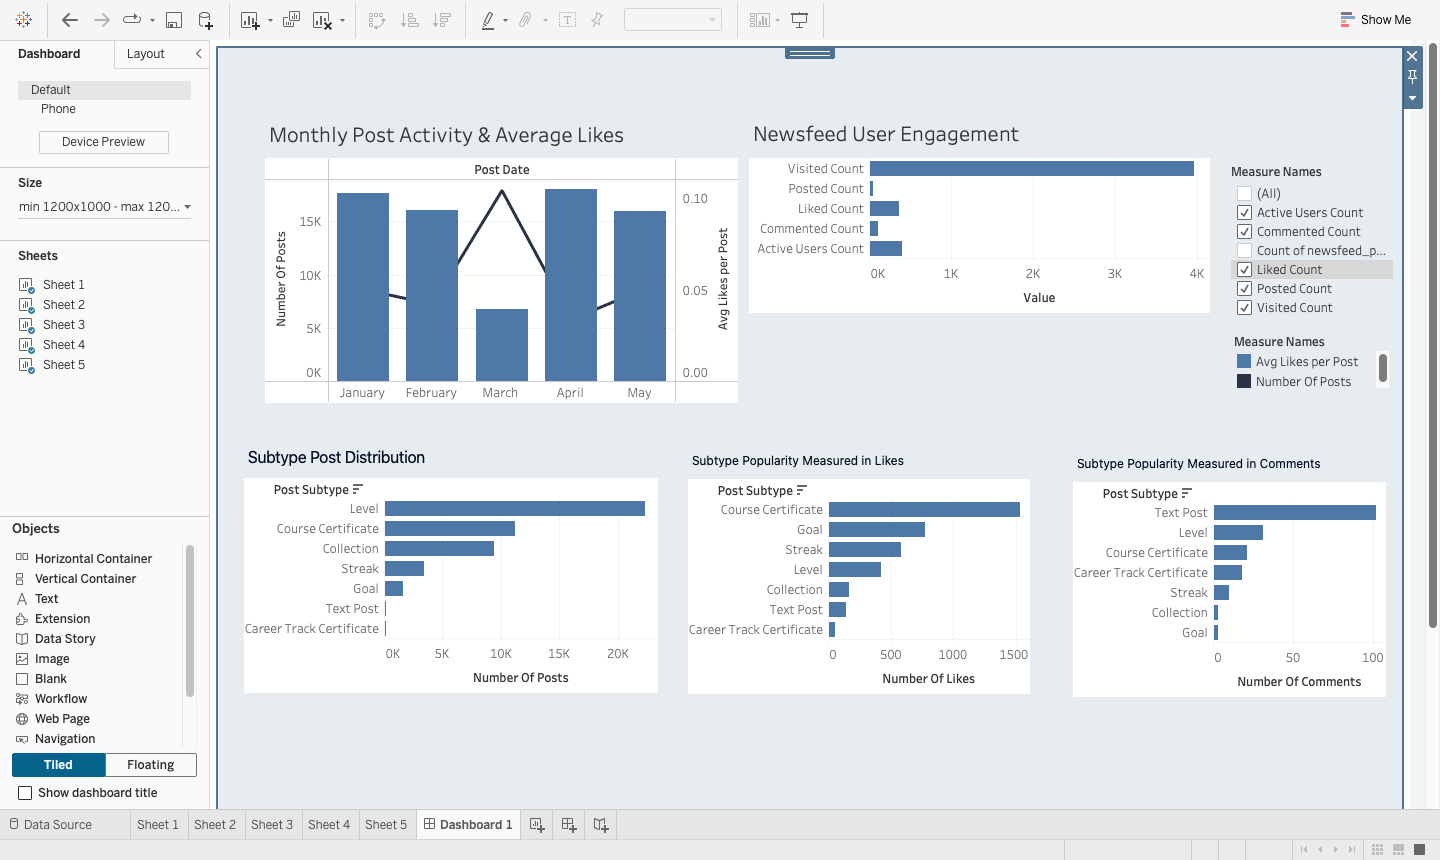

The page's visual inventory and layout, read from the dashboard file:
{"tool":"tableau","page":{"name":"Dashboard 1","canvas":[1200,1000],"ordinal":0},"visuals":[{"type":"title","box":[8,8,1184,23]},{"type":"worksheet","title":"Sheet 5","mark":"Automatic","box":[538.8,75,460.8,275]},{"type":"worksheet","title":"Sheet 1","mark":"Line","rows":["number_of_posts","Calculation_445926792400756736"],"cols":["post_date"],"box":[55.2,76,474,287]},{"type":"filter","title":"Sheet 5","param":"[federated.1siwtvy06bbyo01e23a7m0aizfqq].[:Measure Names]","box":[1021.2,123,162,157]},{"type":"legend","title":"Sheet 1","param":"[federated.1u2n35i1xwz2qw16idjyf1kn14rl].[:Measure Names]","box":[1023.6,293,158.4,55]},{"type":"worksheet","title":"Sheet 2","mark":"Automatic","rows":["post_subtype"],"cols":["number_of_posts"],"box":[34,404,414,303]},{"type":"worksheet","title":"Sheet 3","mark":"Automatic","rows":["post_subtype"],"cols":["number_of_likes"],"box":[478,409,342,256]},{"type":"worksheet","title":"Sheet 4","mark":"Automatic","rows":["post_subtype"],"cols":["number_of_comments"],"box":[863,412,313,256]}]}

Visuals, with their boxes on the page's 1200x1000 design canvas (x1, y1, x2, y2). These are canvas units, not pixel positions in the 1440x860 screenshot, which may show the page scaled, cropped or inside an application window:
title: Rect(8, 8, 1192, 31)
"Sheet 5" worksheet: Rect(539, 75, 1000, 350)
"Sheet 1" worksheet (Line marks): Rect(55, 76, 529, 363)
"Sheet 5" filter: Rect(1021, 123, 1183, 280)
"Sheet 1" legend: Rect(1024, 293, 1182, 348)
"Sheet 2" worksheet: Rect(34, 404, 448, 707)
"Sheet 3" worksheet: Rect(478, 409, 820, 665)
"Sheet 4" worksheet: Rect(863, 412, 1176, 668)
